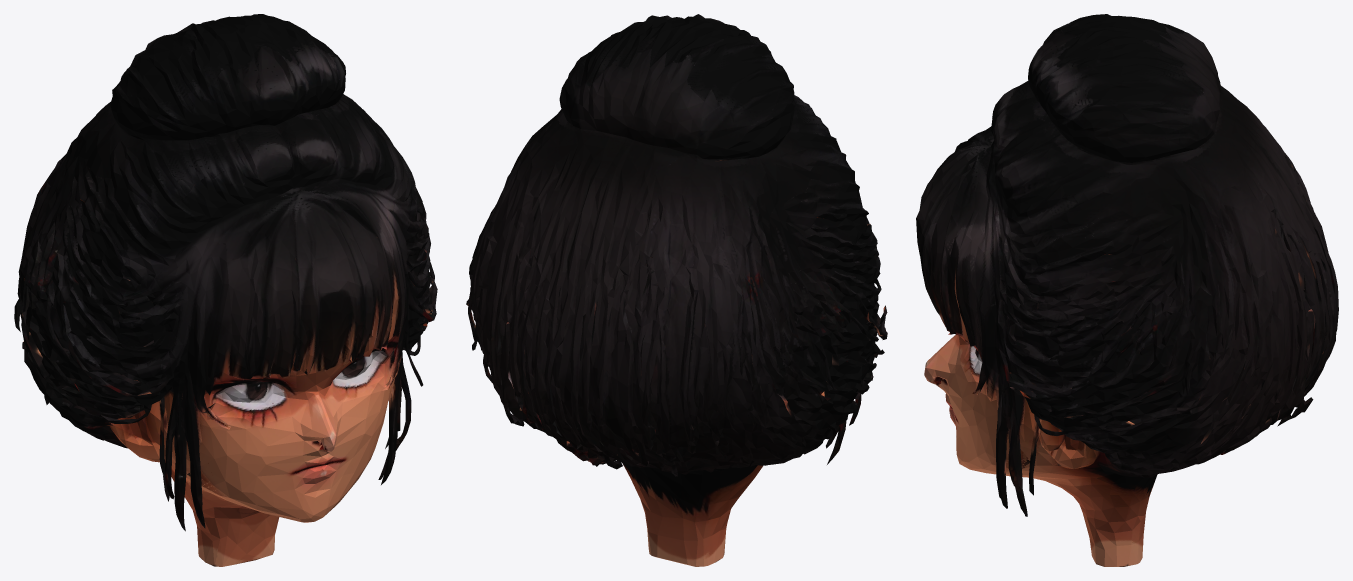
Rendered from side_hagi_fitted_source_repaired_atlas.glb.
3 renders of one model, left to right at view 1: azimuth 30°, elevation 25°; view 2: azimuth 150°, elevation 25°; view 3: azimuth 270°, elevation 25°, orthographic.
Parts seen in each view (by area): view 1: temp_mesh.ply; view 2: temp_mesh.ply; view 3: temp_mesh.ply.
Boxes of the visible parts, box(x1,y1,x2,y2) form: temp_mesh.ply: box(14, 14, 437, 566); temp_mesh.ply: box(466, 14, 887, 566); temp_mesh.ply: box(916, 14, 1338, 566).
Size of the model in its own units: 1.46 by 1.97 by 1.44.
Materials: 1 (1 with a texture image).
